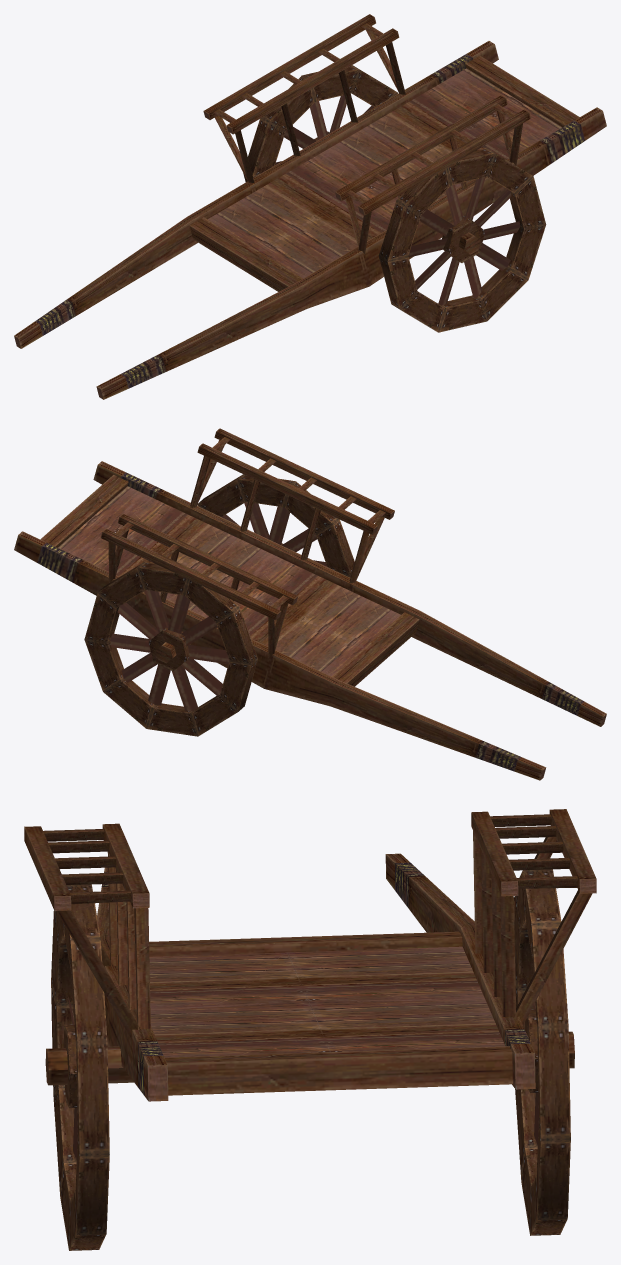
Rendered from banchen02.FBX.
3 views of the same model, one above another, from view 1: azimuth 30°, elevation 25°; view 2: azimuth 150°, elevation 25°; view 3: azimuth 270°, elevation 25° (orthographic). The views are drawn at different scales.
Visible parts, largest first — view 1: banche02; view 2: banche02; view 3: banche02.
Part boxes in pixels (bbox=[...]): banche02: bbox=[14, 14, 606, 399]; banche02: bbox=[14, 428, 606, 780]; banche02: bbox=[24, 809, 596, 1250].
Size of the model in its own units: 496 by 182 by 242.
